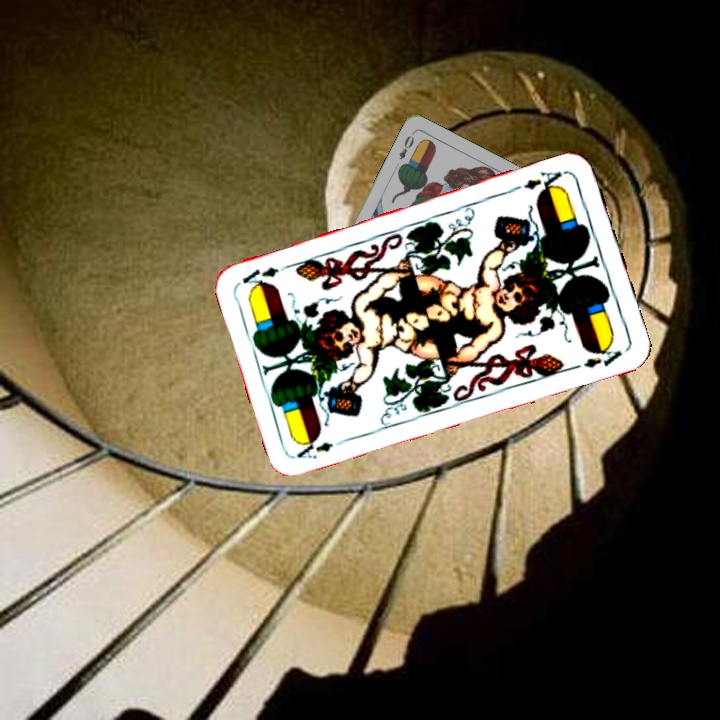EA: (292, 433, 350, 462), (520, 166, 569, 197)
EO: (395, 128, 417, 162)
